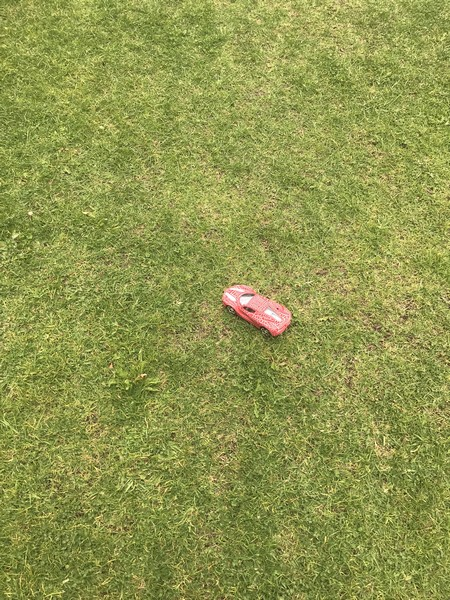RC: (219, 283, 293, 340)
